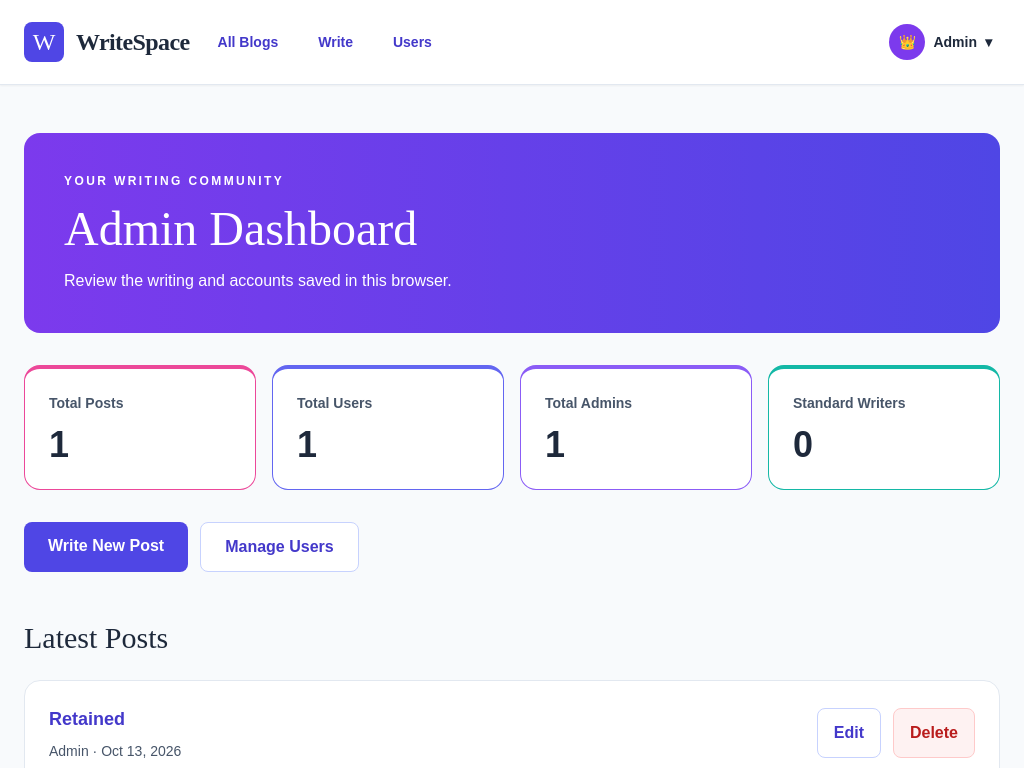
dashboard failed writes show inline error without changing counts or posts, retry succeeds
Click the button with aria-label "Delete Retained" at (934, 733), box [893,708,975,758]
(page scrolled)
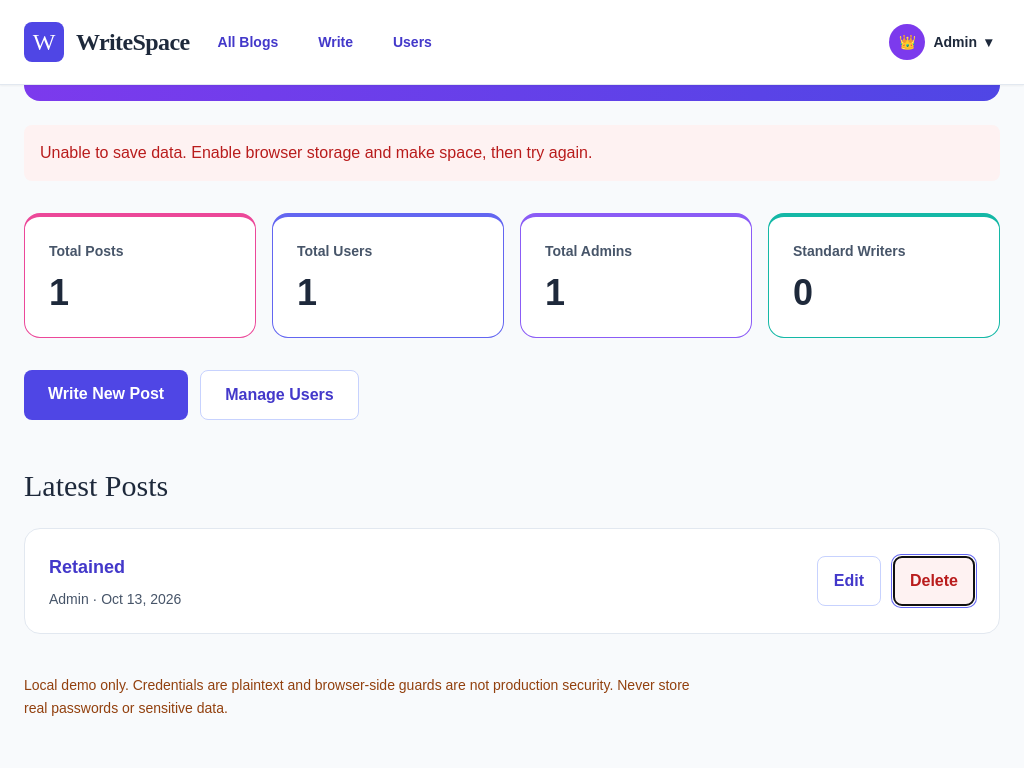
Expected: the message shows "Unable to save data", [40,144,592,161]
Click the button with aria-label "Delete Retained" at (934, 581), box [893,556,975,606]
(page scrolled)
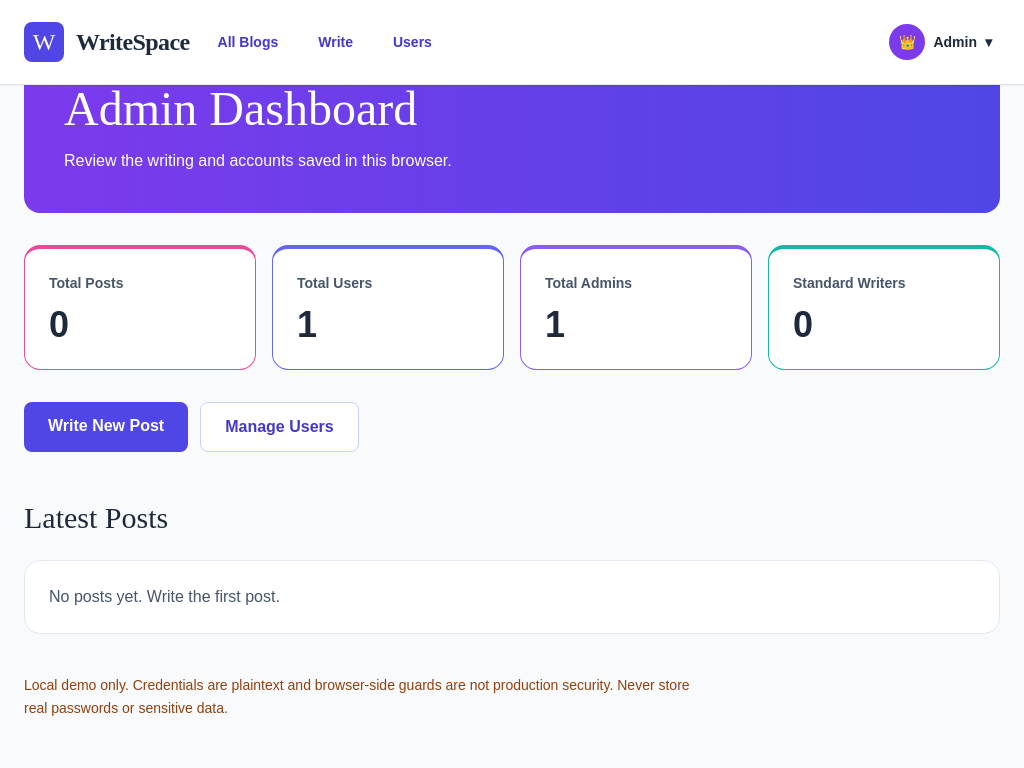
Expected: the message "Unable to save data. Enable browser storage and make space, then try again." is gone
